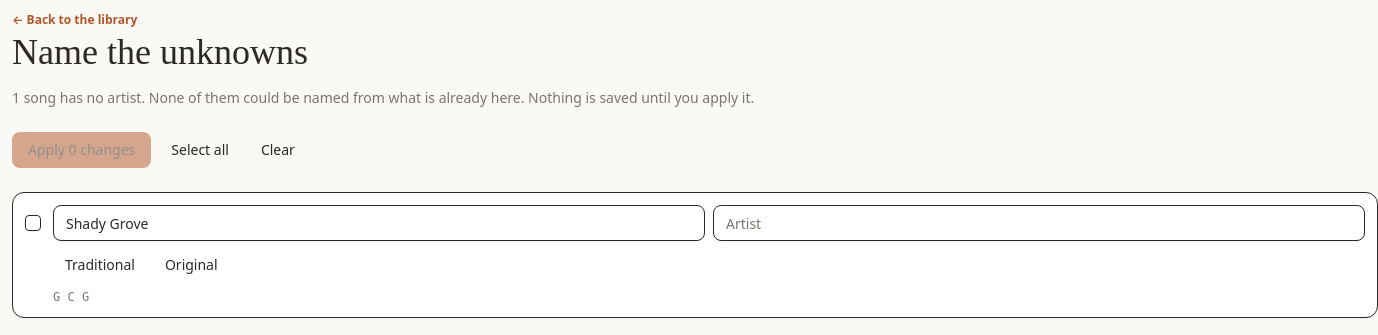
Test case: TidyPage › ticks a row as soon as it is edited
Expected: the heading "Name the unknowns" is shown, [12,32,308,72]
Type "Doc Watson" into the field with placeholder "Artist". click: (1039, 223)
box: [713,205,1365,241]
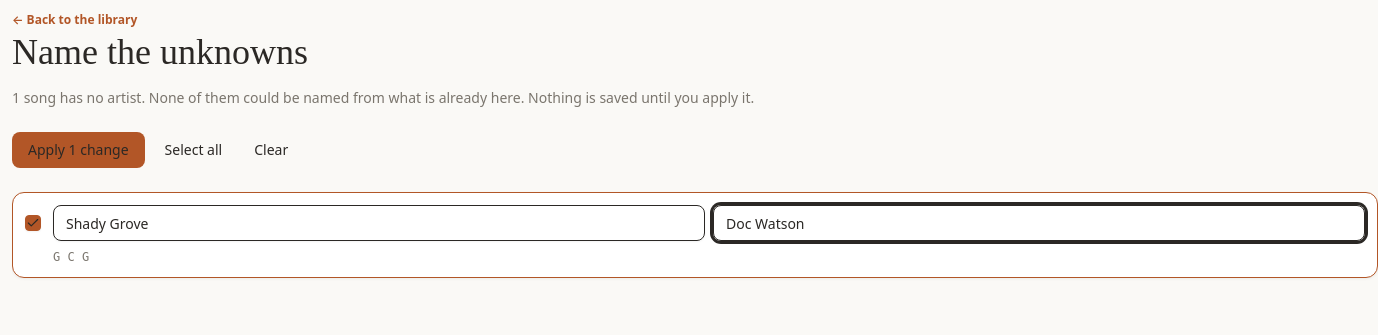
Expected: the checkbox is checked, [25,215,41,231]
Expected: the button "Apply 1 change" is enabled, [12,132,145,168]
